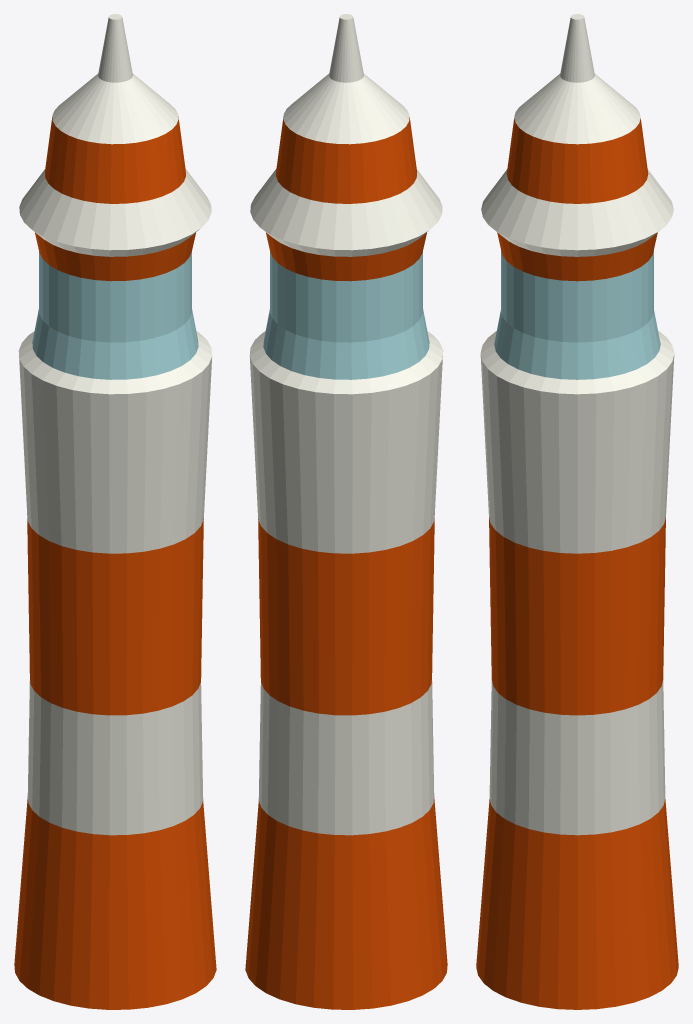
File: UntitlLIGHTHOUSEed.fbx
The picture shows the model from 3 angles, left to right: view 1: azimuth 30°, elevation 25°; view 2: azimuth 150°, elevation 25°; view 3: azimuth 270°, elevation 25°; orthographic projection.
Parts seen in each view (by area): view 1: Cylinder; view 2: Cylinder; view 3: Cylinder.
Boxes of the visible parts, x1,y1,x2,y2 form: Cylinder: [14, 14, 216, 1009]; Cylinder: [245, 14, 447, 1009]; Cylinder: [476, 14, 678, 1009].
Bounding box in the file's own units: 217 × 1124 × 217.
